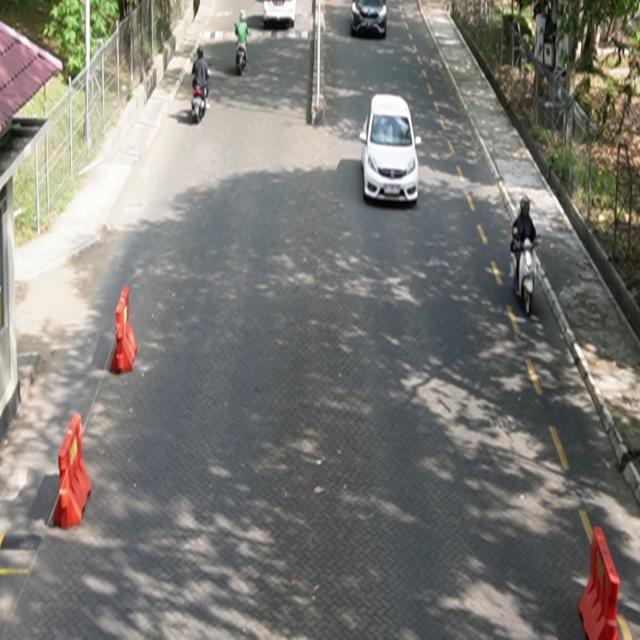car: (360, 94, 422, 205), (352, 1, 388, 39)
